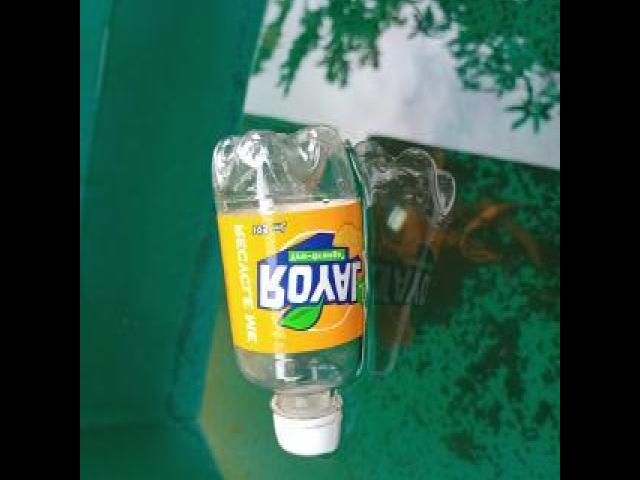Bottle: (204, 114, 374, 468)
